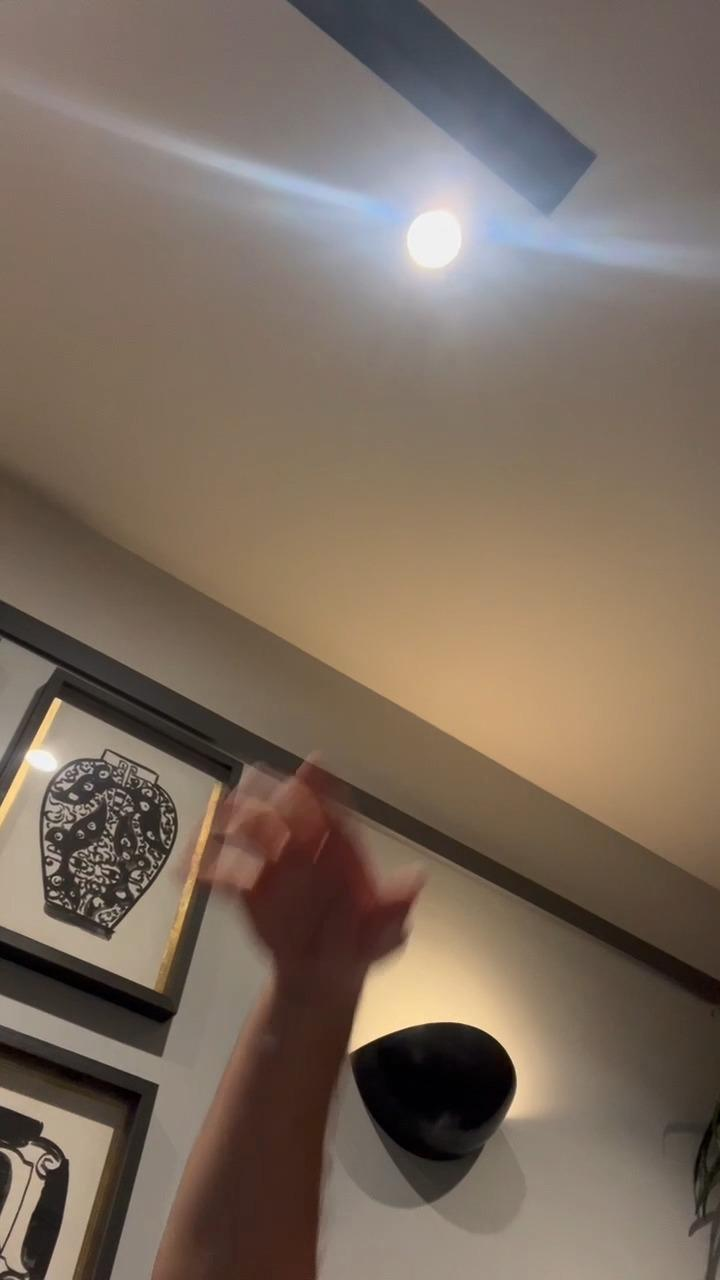Paper: (176, 760, 427, 977)
